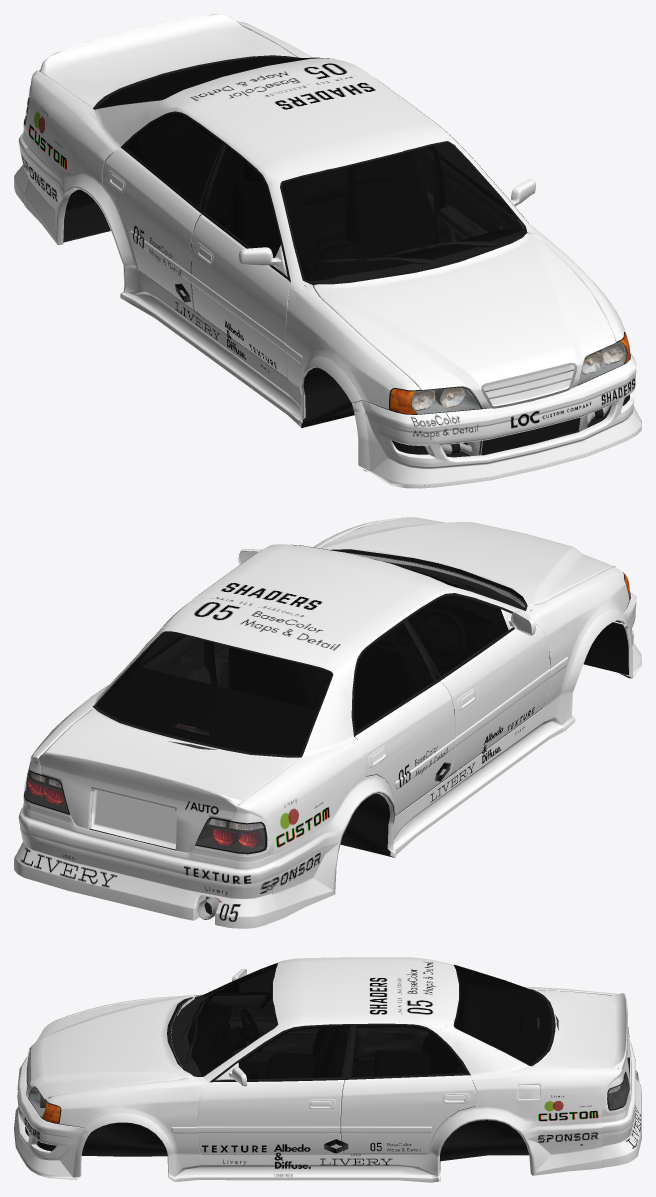
The model's file is VehicleModel3.fbx.
3 renders of one model, top to bottom at view 1: azimuth 30°, elevation 25°; view 2: azimuth 150°, elevation 25°; view 3: azimuth 270°, elevation 25°, orthographic. The views are drawn at different scales.
Visible parts, largest first — view 1: Chaser; view 2: Chaser; view 3: Chaser.
Part boxes in pixels (x1,y1,x2,y2): Chaser: (14,14,641,488); Chaser: (14,517,641,928); Chaser: (14,957,641,1182).
Bounding box in the file's own units: 206 × 131 × 500.
